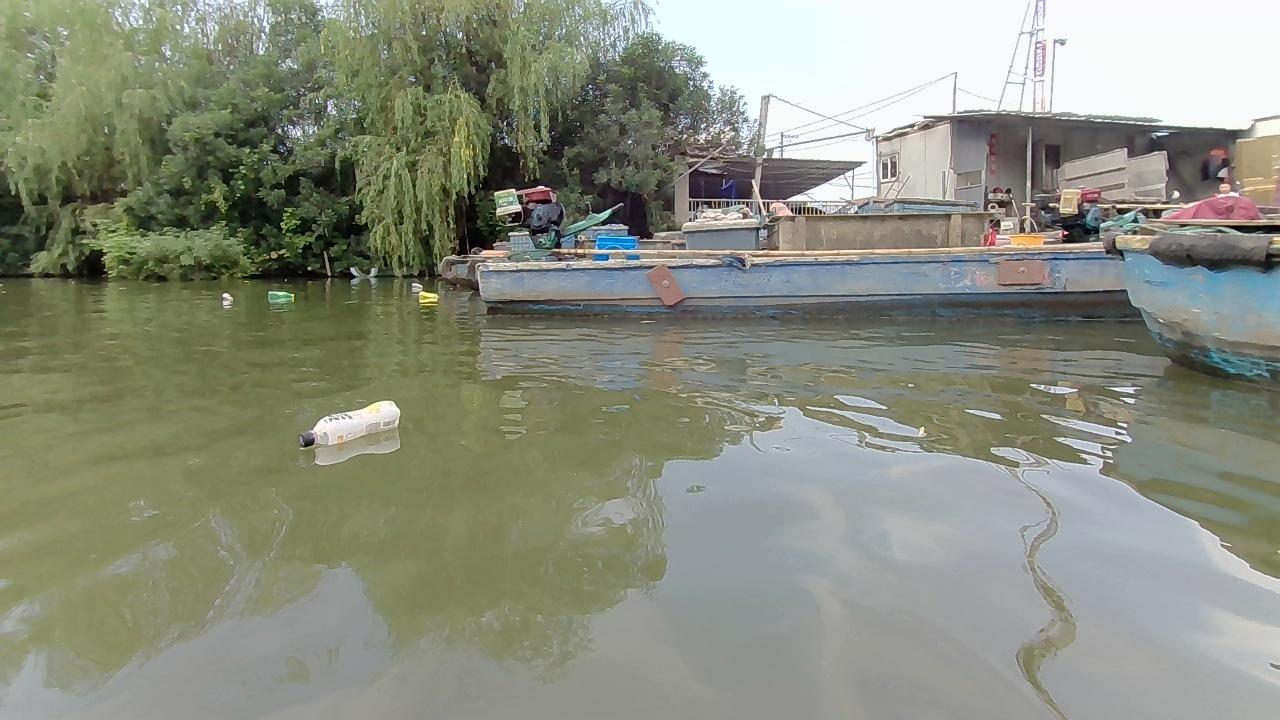bottle: (302, 392, 401, 450), (266, 286, 298, 305), (415, 289, 441, 303), (218, 293, 237, 311), (409, 280, 427, 293)
